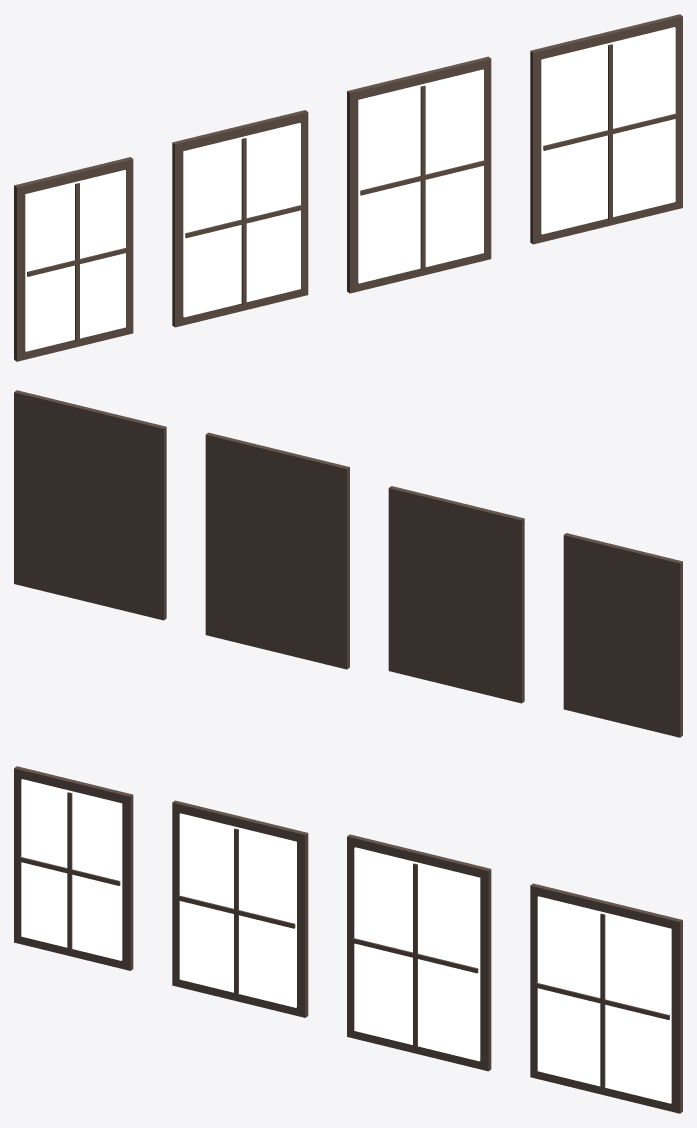
File: ventana_interior.glb
3 renders of one model, top to bottom at view 1: azimuth 30°, elevation 25°; view 2: azimuth 150°, elevation 25°; view 3: azimuth 330°, elevation 25°, orthographic.
Parts seen in each view (by area): view 1: VentanaInterior_160x200, VentanaInterior_150x210, VentanaInterior_140x190, VentanaInterior_120x180; view 2: VentanaInterior_160x200, VentanaInterior_150x210, VentanaInterior_140x190, VentanaInterior_120x180; view 3: VentanaInterior_160x200, VentanaInterior_150x210, VentanaInterior_140x190, VentanaInterior_120x180.
Part boxes in pixels (x1,y1,x2,y2): VentanaInterior_160x200: (530, 14, 682, 244); VentanaInterior_150x210: (347, 56, 491, 293); VentanaInterior_140x190: (172, 110, 308, 327); VentanaInterior_120x180: (14, 157, 133, 361); VentanaInterior_160x200: (14, 390, 166, 620); VentanaInterior_150x210: (205, 432, 349, 669); VentanaInterior_140x190: (388, 486, 524, 703); VentanaInterior_120x180: (563, 533, 682, 737); VentanaInterior_160x200: (530, 883, 682, 1113); VentanaInterior_150x210: (347, 834, 491, 1071); VentanaInterior_140x190: (172, 800, 308, 1017); VentanaInterior_120x180: (14, 766, 133, 970).
Size of the model in its own units: 8 by 2.3 by 0.12.
